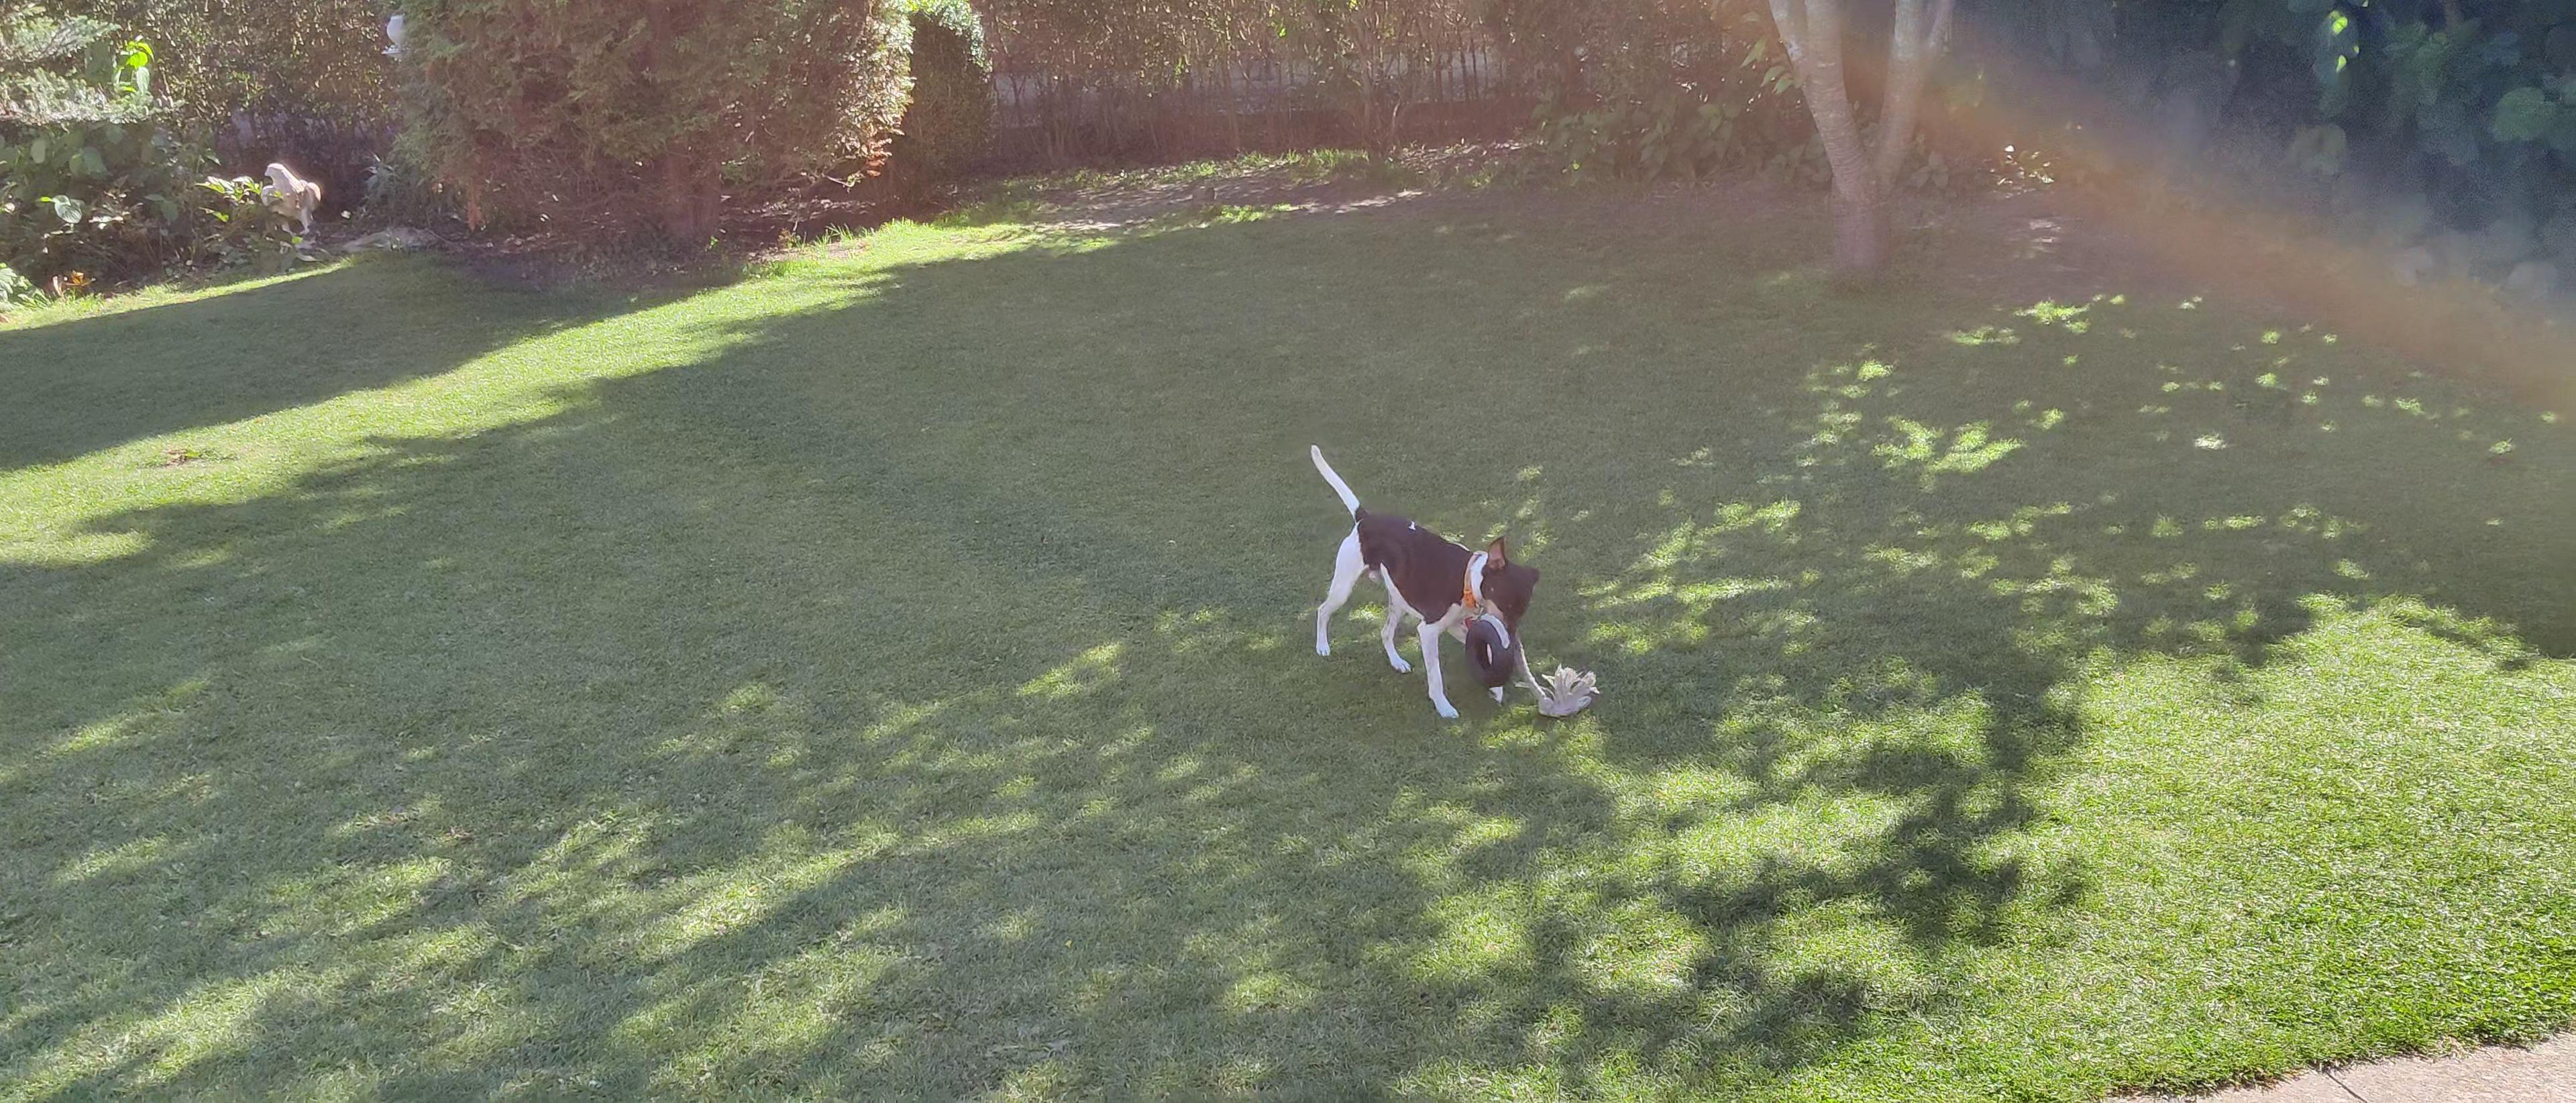Dog: (1301, 437, 1546, 720)
